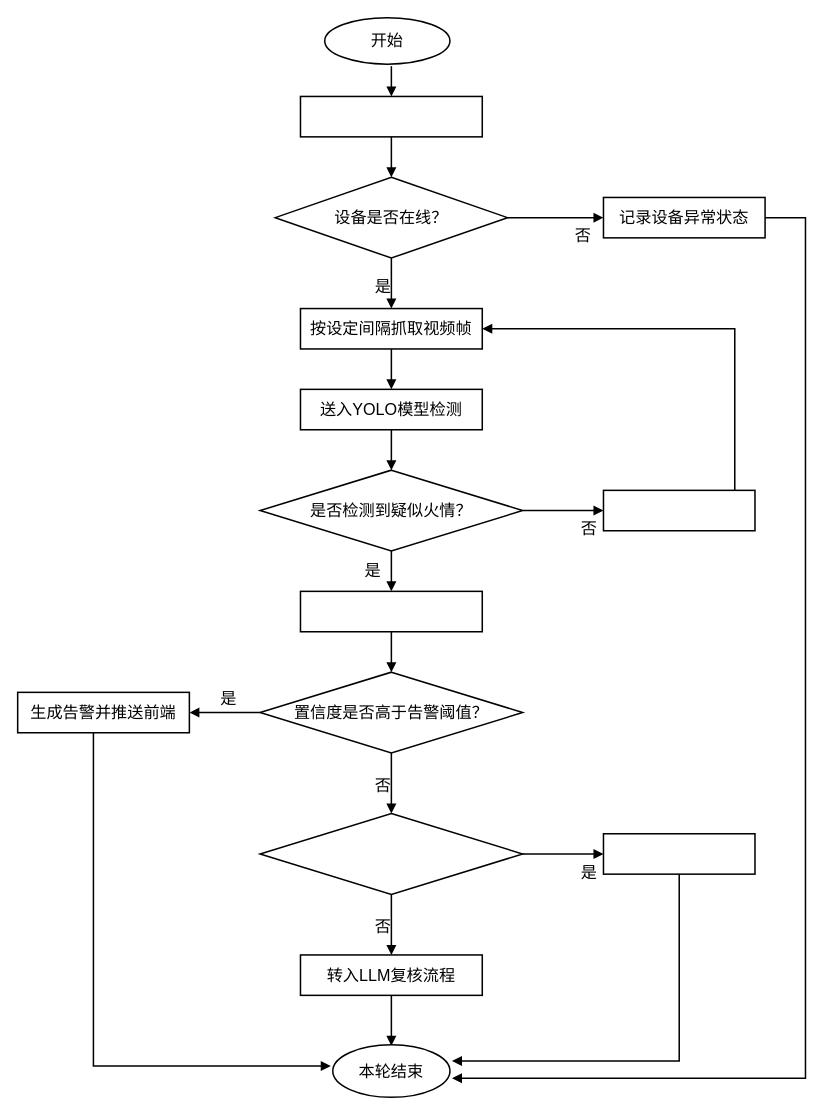
Some shapes in this 832 by 1116 pixel diagram are drawn without their labels. The shapes that lost their labels are listed below. From the top down, each one's centre as x and y in pixels, then its label:
At [391,116]: "接入摄像头视频流".
At [678,510]: "继续下一轮巡检".
At [391,611]: "输出检测结果与置信度".
At [391,853]: "置信度是否低于忽略阈值？".
At [678,853]: "记为低风险结果".
